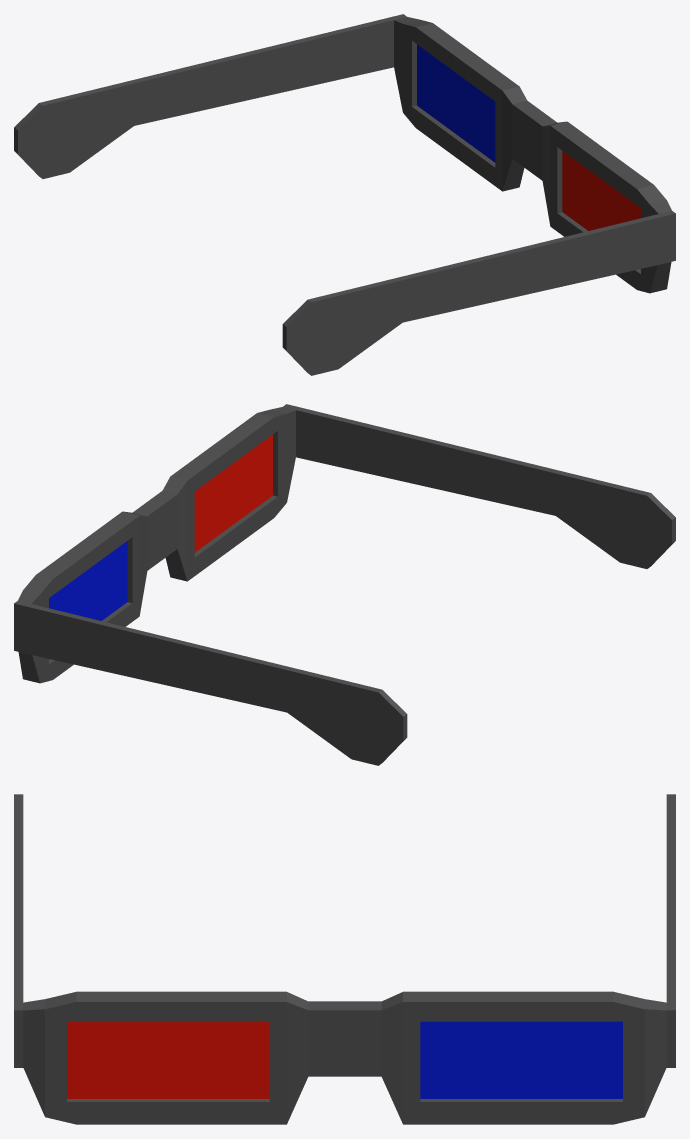
The model's file is 3DGlasses.fbx.
The picture shows the model from 3 angles, top to bottom: view 1: azimuth 30°, elevation 25°; view 2: azimuth 150°, elevation 25°; view 3: azimuth 270°, elevation 25°; orthographic projection. The views are drawn at different scales.
Visible parts, largest first — view 1: 3DGlasses; view 2: 3DGlasses; view 3: 3DGlasses.
Boxes of the visible parts, box(x1,y1,x2,y2) form: 3DGlasses: box(14, 14, 675, 375); 3DGlasses: box(14, 404, 675, 765); 3DGlasses: box(14, 794, 675, 1124).
Bounding box in the file's own units: 1508 × 370 × 1810.
